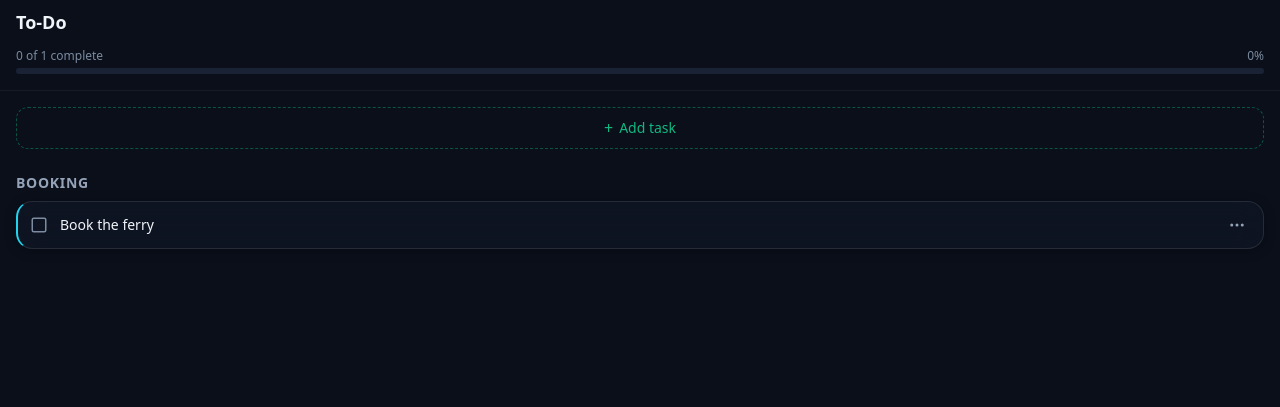
Test: to-do rows keep their actions in one menu › names the task in each action
Click the button named "More actions for Book the ferry" at coordinates (1237, 225), box top-left (1215, 203), bottom-right (1259, 247)
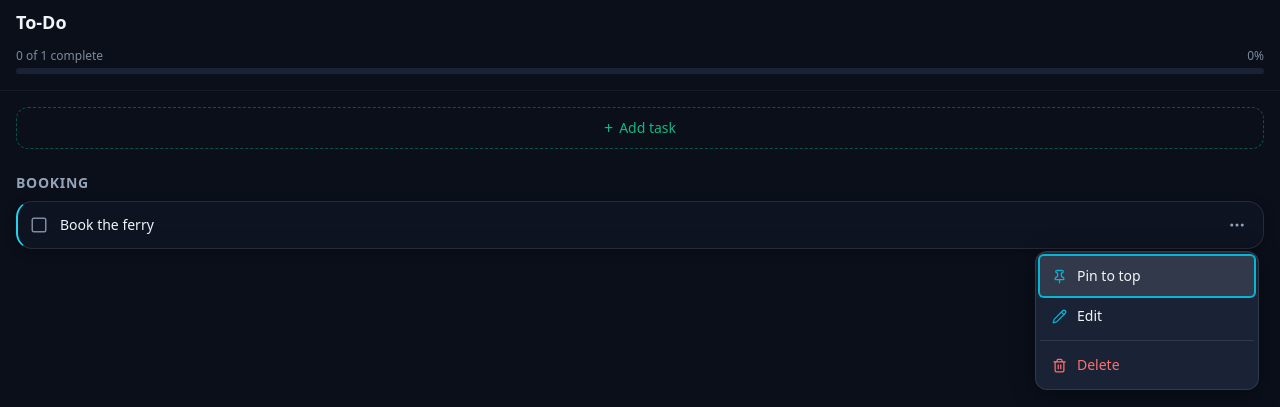
Result: the menu item with aria-label "Delete: Book the ferry" is shown at top-left (1040, 345), bottom-right (1254, 385)
Result: the menu item with aria-label "Pin to top: Book the ferry" is shown at top-left (1040, 256), bottom-right (1254, 296)
